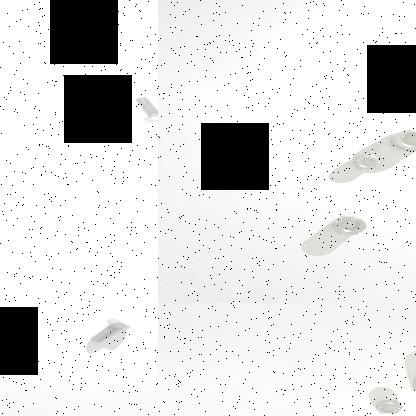Bolts: (86, 318, 132, 344), (130, 92, 158, 127)
NUTS: (322, 216, 372, 236), (389, 126, 416, 153), (350, 154, 382, 170), (374, 400, 404, 416)
